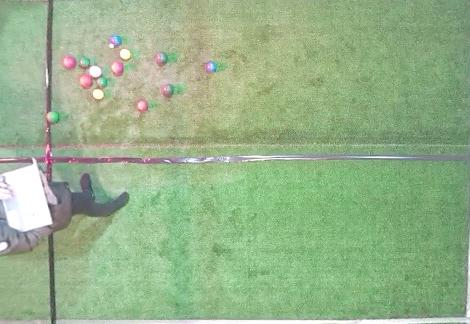blue: (111, 35, 121, 45), (206, 62, 216, 72)
green: (46, 111, 59, 123), (156, 52, 168, 64), (162, 84, 174, 96), (79, 57, 90, 68), (97, 77, 107, 87)
red: (1, 1, 54, 110), (1, 121, 52, 184), (63, 57, 76, 69), (80, 75, 93, 87), (89, 66, 102, 78), (112, 62, 123, 75), (138, 101, 148, 111)
vline: (1, 233, 58, 323), (463, 1, 469, 323)
white: (109, 43, 114, 48)
yellow: (92, 89, 104, 100), (120, 49, 131, 60)
